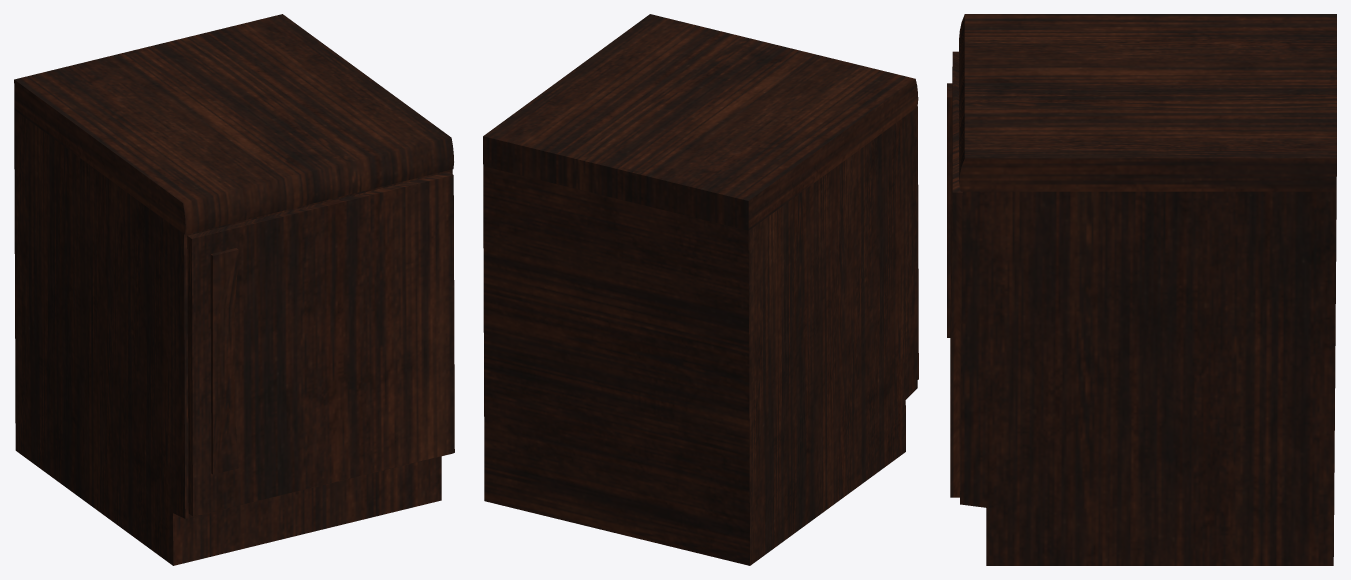
The model's file is Alacena1.obj.
3 views of the same model, side by side, from view 1: azimuth 30°, elevation 25°; view 2: azimuth 150°, elevation 25°; view 3: azimuth 270°, elevation 25° (orthographic). The views are drawn at different scales.
Visible parts, largest first — view 1: Cabinet_7:caninet_1; view 2: Cabinet_7:caninet_1; view 3: Cabinet_7:caninet_1.
Boxes of the visible parts, bbox=[...] form: Cabinet_7:caninet_1: bbox=[14, 14, 454, 565]; Cabinet_7:caninet_1: bbox=[483, 14, 918, 565]; Cabinet_7:caninet_1: bbox=[947, 14, 1336, 565].
Size of the model in its own units: 2.83 by 3.73 by 3.23.
